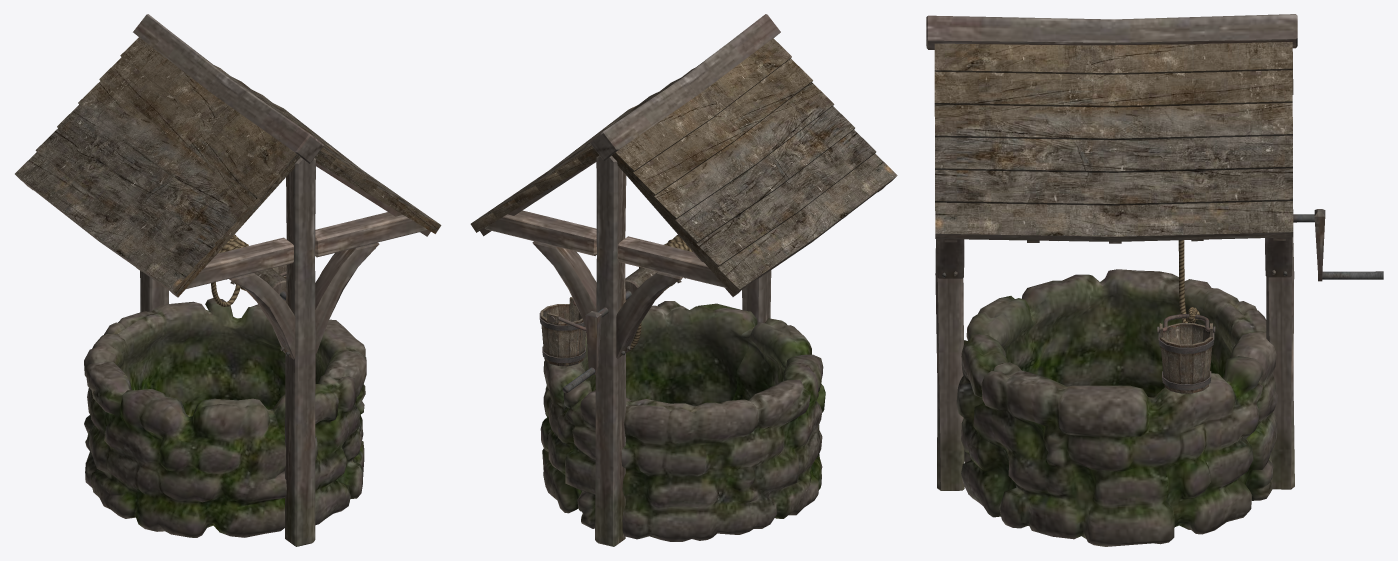
File: poco_vila.glb
3 renders of one model, left to right at view 1: azimuth 30°, elevation 25°; view 2: azimuth 150°, elevation 25°; view 3: azimuth 270°, elevation 25°, orthographic. The views are drawn at different scales.
Parts seen in each view (by area): view 1: Well_LP; view 2: Well_LP; view 3: Well_LP.
Boxes of the visible parts, x1,y1,x2,y2 form: Well_LP: (15,14,441,546); Well_LP: (470,14,897,546); Well_LP: (926,14,1383,546).
Bounding box in the file's own units: 181 × 268 × 235.
4 materials, 4 textured.
